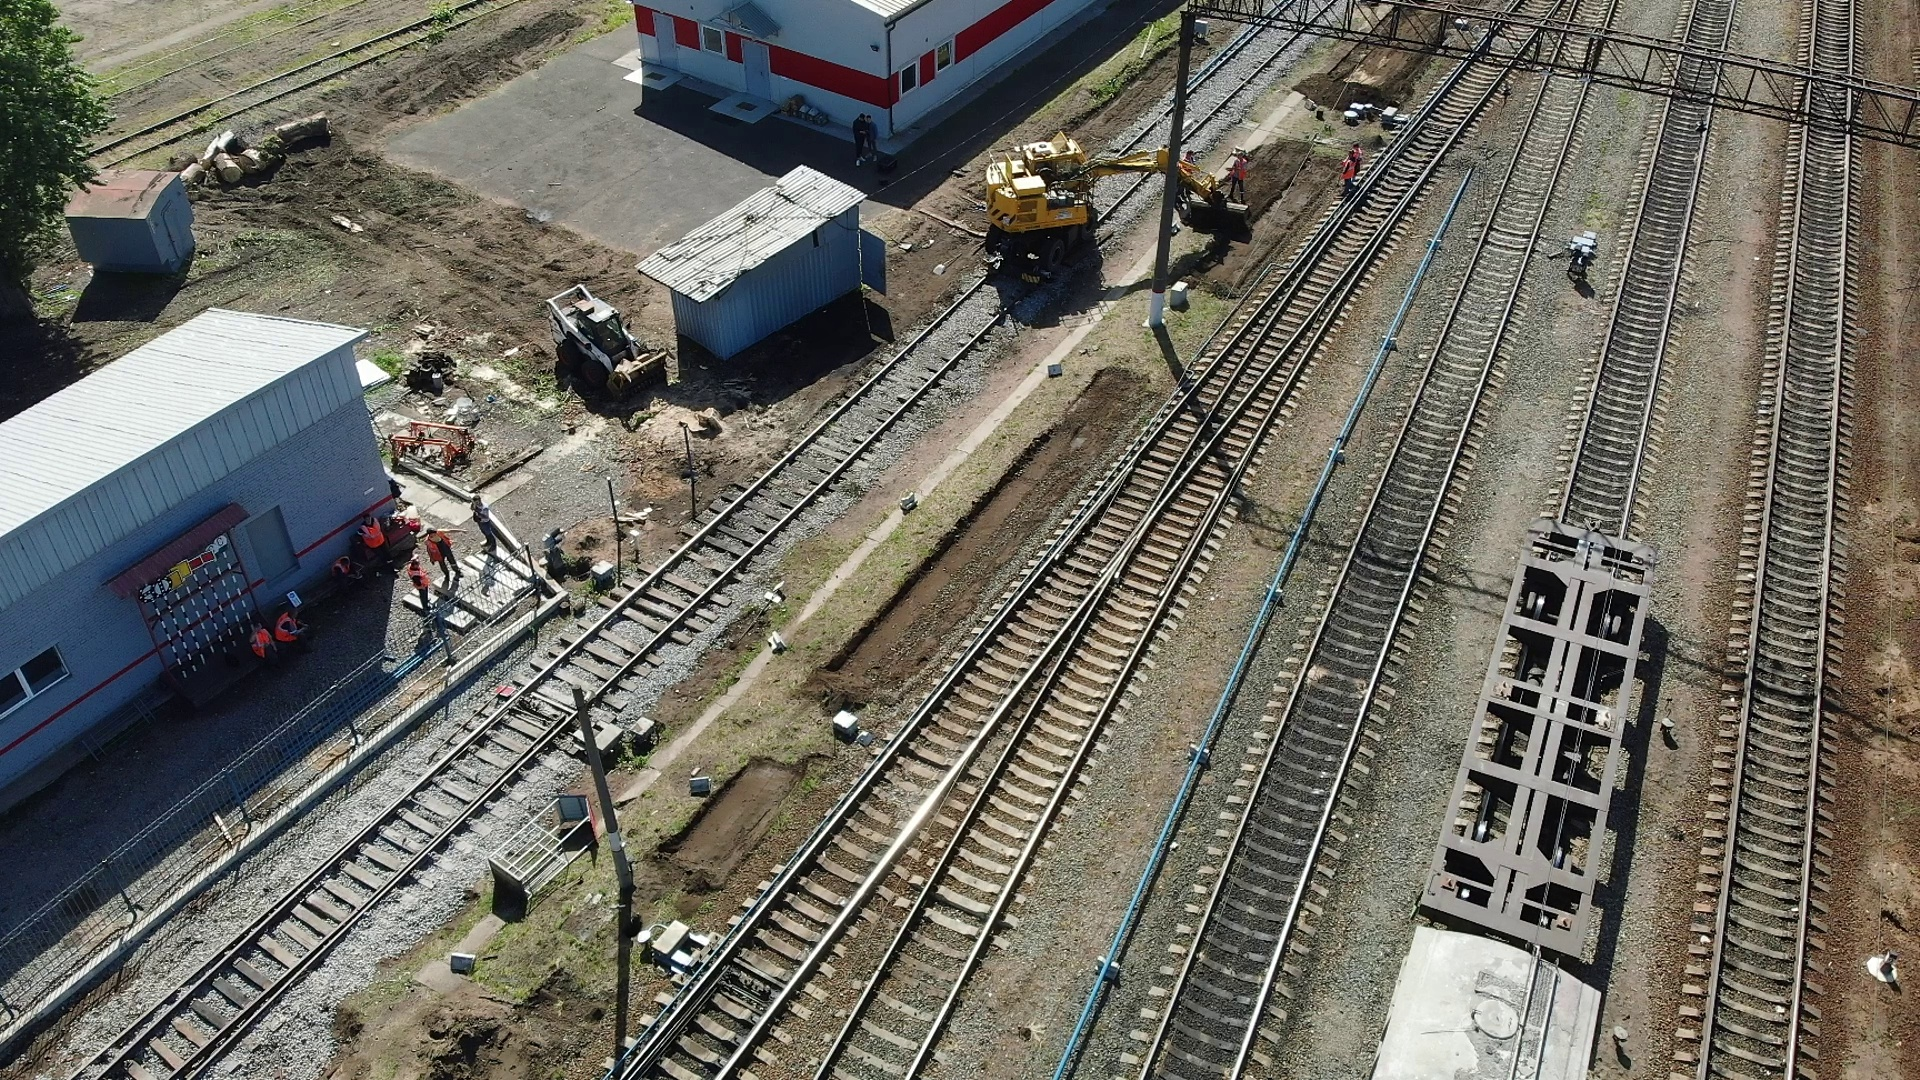kjtv: (988, 129, 1158, 285)
